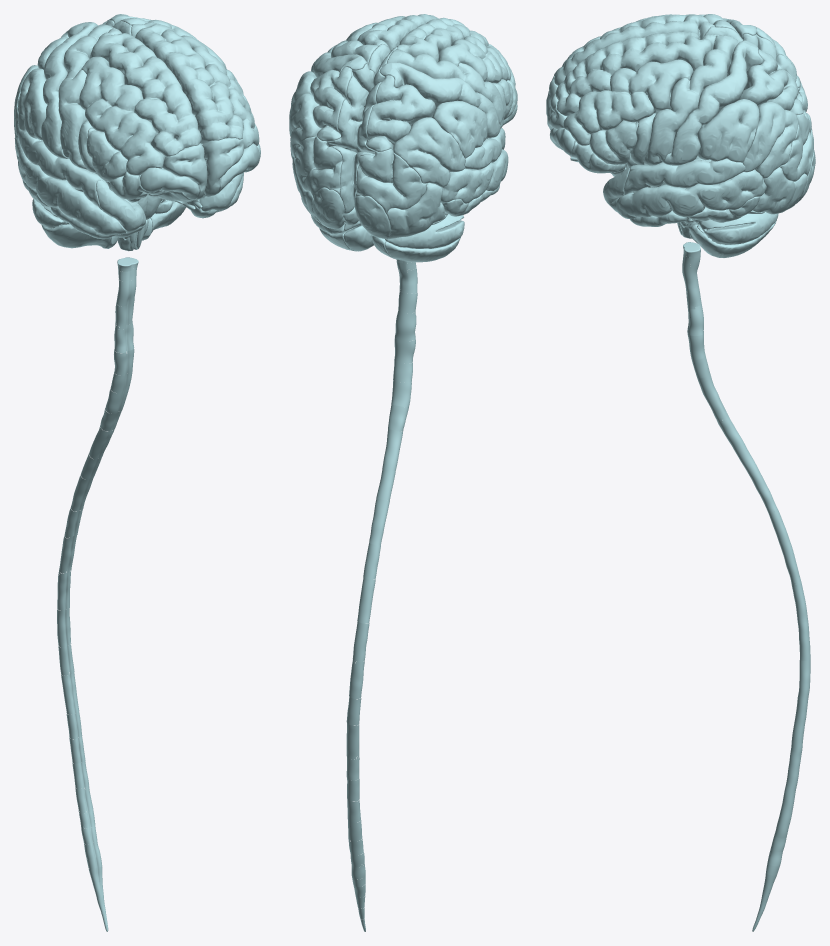
The model's file is nervous.glb.
The picture shows the model from 3 angles, left to right: view 1: azimuth 30°, elevation 25°; view 2: azimuth 150°, elevation 25°; view 3: azimuth 270°, elevation 25°; orthographic projection. The views are drawn at different scales.
Visible parts, largest first — view 1: Allen_superior_frontal_gyrus_L, Allen_middle_frontal_gyrus_L, Allen_superior_frontal_gyrus_R, Allen_precentral_gyrus_L, Allen_middle_temporal_gyrus_L, Allen_postcentral_gyrus_L, Allen_superior_temporal_gyrus_L, Allen_middle_frontal_gyrus_R, Allen_supramarginal_gyrus_L, Allen_rostral_gyrus_R, Allen_lateral_hemisphere_of_cerebellum_L, Allen_inferior_frontal_gyrus_triangular_part_L (+9 smaller); view 2: Allen_supraparietal_lobule_L, Allen_angular_gyrus_L, Allen_superior_occipital_gyrus_L, Allen_postcentral_gyrus_L, Allen_lateral_hemisphere_of_cerebellum_L, Allen_superior_occipital_gyrus_R, Allen_precentral_gyrus_L, Allen_supraparietal_lobule_R, Allen_supramarginal_gyrus_L, Allen_middle_frontal_gyrus_L, Allen_superior_frontal_gyrus_L, Allen_inferior_occipital_gyrus_L (+19 smaller); view 3: Allen_middle_frontal_gyrus_R, Allen_superior_frontal_gyrus_R, Allen_middle_temporal_gyrus_R, Allen_precentral_gyrus_R, Allen_postcentral_gyrus_R, Allen_supramarginal_gyrus_R, Allen_angular_gyrus_R, Allen_superior_temporal_gyrus_R, Allen_lateral_hemisphere_of_cerebellum_R, Allen_superior_frontal_gyrus_L, Allen_supraparietal_lobule_R, Allen_inferior_frontal_gyrus_triangular_part_R (+5 smaller).
Boxes of the visible parts, bbox=[...] form: Allen_superior_frontal_gyrus_L: bbox=[90, 29, 201, 156]; Allen_middle_frontal_gyrus_L: bbox=[79, 56, 165, 175]; Allen_superior_frontal_gyrus_R: bbox=[131, 22, 243, 144]; Allen_precentral_gyrus_L: bbox=[58, 24, 112, 169]; Allen_middle_temporal_gyrus_L: bbox=[15, 138, 126, 235]; Allen_postcentral_gyrus_L: bbox=[41, 22, 97, 158]; Allen_superior_temporal_gyrus_L: bbox=[17, 130, 104, 209]; Allen_middle_frontal_gyrus_R: bbox=[181, 35, 259, 148]; Allen_supramarginal_gyrus_L: bbox=[17, 68, 47, 140]; Allen_rostral_gyrus_R: bbox=[202, 137, 244, 196]; Allen_lateral_hemisphere_of_cerebellum_L: bbox=[32, 198, 110, 248]; Allen_inferior_frontal_gyrus_triangular_part_L: bbox=[86, 128, 127, 182]; Allen_supraparietal_lobule_L: bbox=[366, 75, 435, 151]; Allen_angular_gyrus_L: bbox=[393, 117, 465, 187]; Allen_superior_occipital_gyrus_L: bbox=[356, 148, 427, 213]; Allen_postcentral_gyrus_L: bbox=[379, 62, 500, 138]; Allen_lateral_hemisphere_of_cerebellum_L: bbox=[385, 214, 464, 262]; Allen_superior_occipital_gyrus_R: bbox=[295, 135, 342, 198]; Allen_precentral_gyrus_L: bbox=[387, 49, 504, 128]; Allen_supraparietal_lobule_R: bbox=[310, 67, 352, 141]; Allen_supramarginal_gyrus_L: bbox=[432, 100, 487, 158]; Allen_middle_frontal_gyrus_L: bbox=[438, 36, 515, 86]; Allen_superior_frontal_gyrus_L: bbox=[396, 17, 493, 62]; Allen_inferior_occipital_gyrus_L: bbox=[386, 183, 447, 239]; Allen_middle_frontal_gyrus_R: bbox=[563, 59, 693, 145]; Allen_superior_frontal_gyrus_R: bbox=[555, 32, 715, 116]; Allen_middle_temporal_gyrus_R: bbox=[610, 169, 766, 218]; Allen_precentral_gyrus_R: bbox=[644, 35, 738, 165]; Allen_postcentral_gyrus_R: bbox=[663, 40, 763, 165]; Allen_supramarginal_gyrus_R: bbox=[696, 99, 759, 162]; Allen_angular_gyrus_R: bbox=[742, 102, 798, 178]; Allen_superior_temporal_gyrus_R: bbox=[623, 158, 745, 195]; Allen_lateral_hemisphere_of_cerebellum_R: bbox=[684, 212, 778, 257]; Allen_superior_frontal_gyrus_L: bbox=[554, 14, 714, 85]; Allen_supraparietal_lobule_R: bbox=[738, 49, 803, 114]; Allen_inferior_frontal_gyrus_triangular_part_R: bbox=[589, 120, 638, 164].
Bounding box in the file's own units: 0.1364 × 0.6181 × 0.167.
